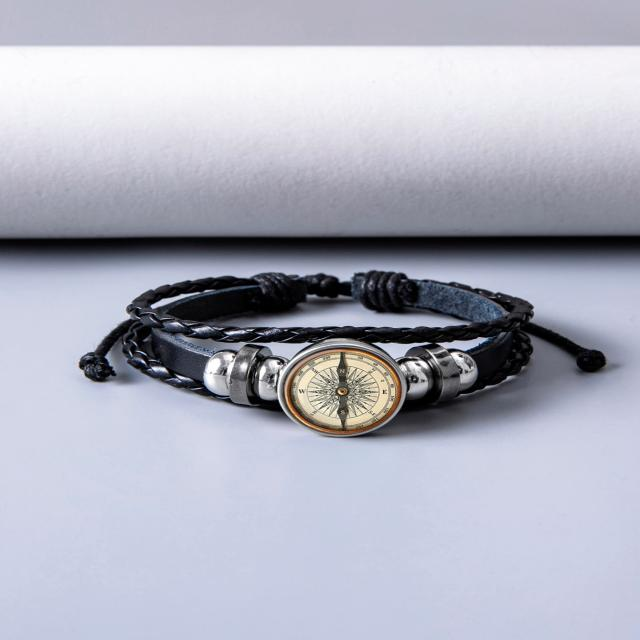bracelet: (27, 202, 640, 479)
